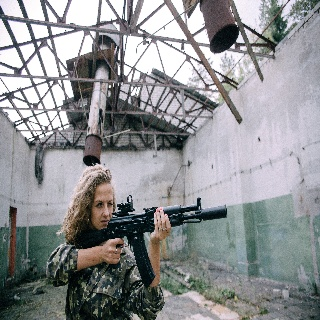rifle: (68, 197, 228, 287)
